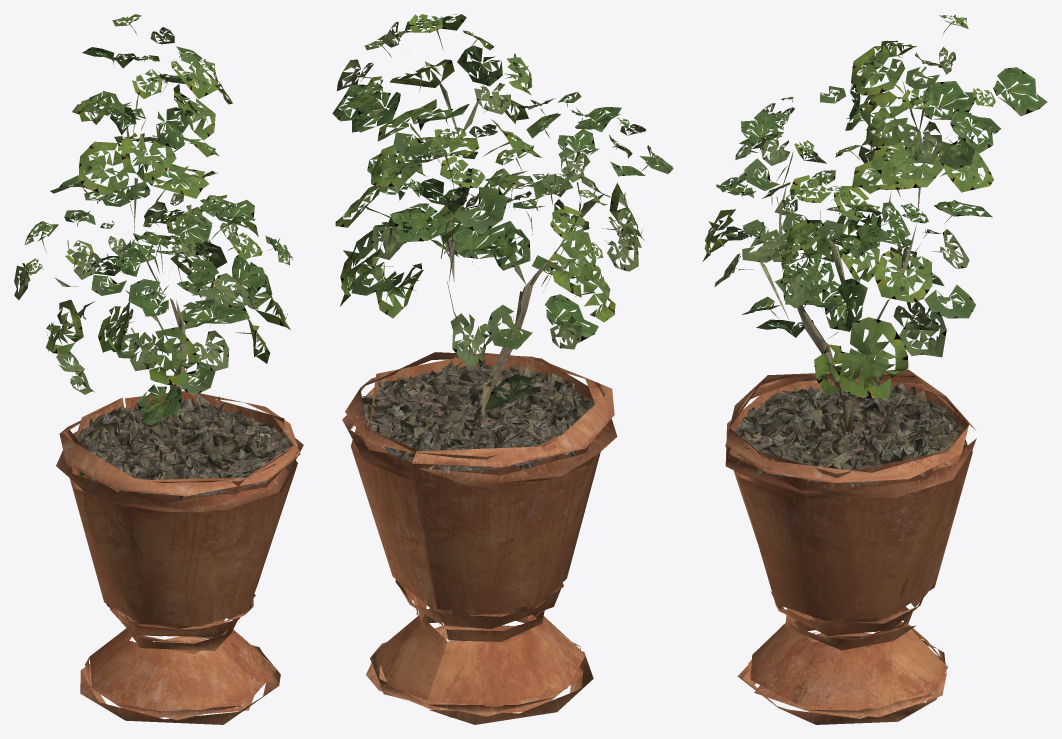
File: ASSET_potted_plant_01.glb
3 views of the same model, side by side, from view 1: azimuth 30°, elevation 25°; view 2: azimuth 150°, elevation 25°; view 3: azimuth 270°, elevation 25° (orthographic). The views are drawn at different scales.
Visible parts, largest first — view 1: ASSET_potted_plant_01; view 2: ASSET_potted_plant_01; view 3: ASSET_potted_plant_01.
Part boxes in pixels (left/top/right/bottom): ASSET_potted_plant_01: left=14, top=14, right=303, bottom=724; ASSET_potted_plant_01: left=332, top=14, right=673, bottom=724; ASSET_potted_plant_01: left=702, top=14, right=1047, bottom=724.
Bounding box in the file's own units: 0.587 × 1.33 × 0.6305.
Materials: 2 (2 with a texture image).
